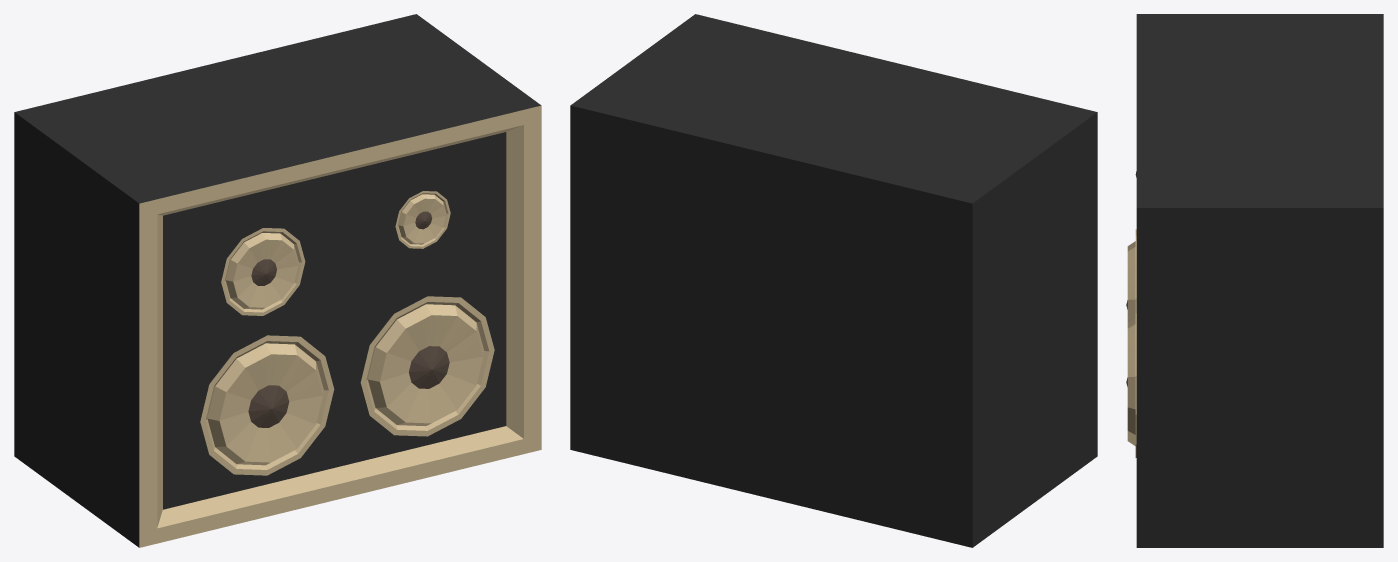
File: amplifier.fbx
3 renders of one model, left to right at view 1: azimuth 30°, elevation 25°; view 2: azimuth 150°, elevation 25°; view 3: azimuth 270°, elevation 25°, orthographic.
Parts seen in each view (by area): view 1: amplifier; view 2: amplifier; view 3: amplifier.
Part boxes in pixels (left/top/right/bottom): amplifier: left=14, top=14, right=541, bottom=547; amplifier: left=570, top=14, right=1097, bottom=547; amplifier: left=1126, top=14, right=1383, bottom=547.
Size of the model in its own units: 25.21 by 14.15 by 20.63.
